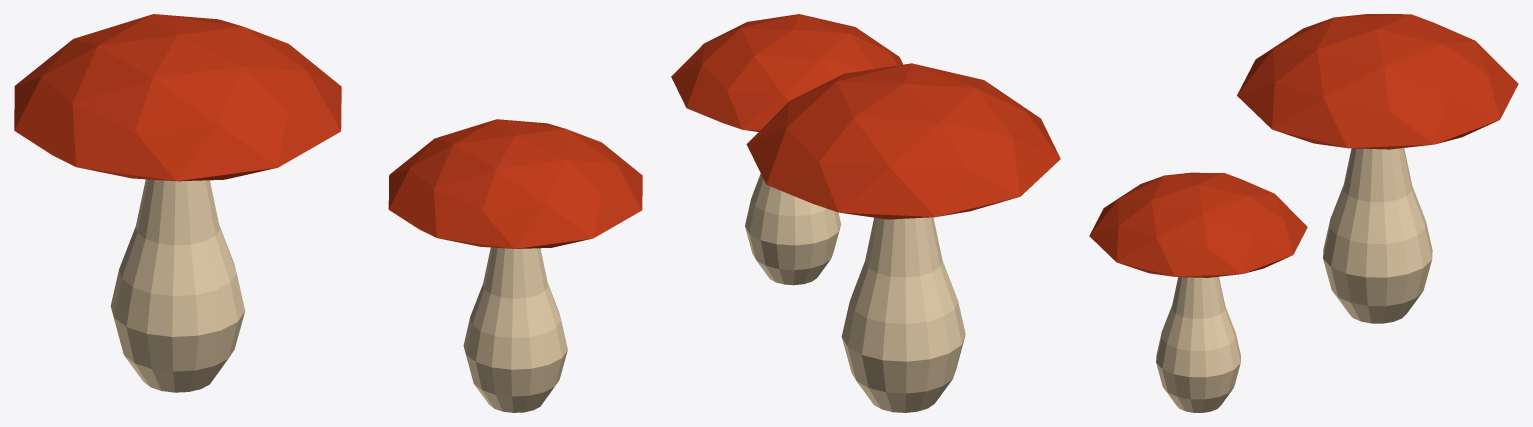
The model's file is mushroom.FBX.
3 renders of one model, left to right at view 1: azimuth 30°, elevation 25°; view 2: azimuth 150°, elevation 25°; view 3: azimuth 270°, elevation 25°, orthographic. The views are drawn at different scales.
Parts seen in each view (by area): view 1: Object022; view 2: Object022; view 3: Object022.
Boxes of the visible parts, <box> form: Object022: <box>14,14,642,412</box>; Object022: <box>671,14,1060,412</box>; Object022: <box>1089,14,1518,412</box>.
Size of the model in its own units: 3.59 by 2.41 by 3.33.
Materials: 1 (1 with a texture image).
